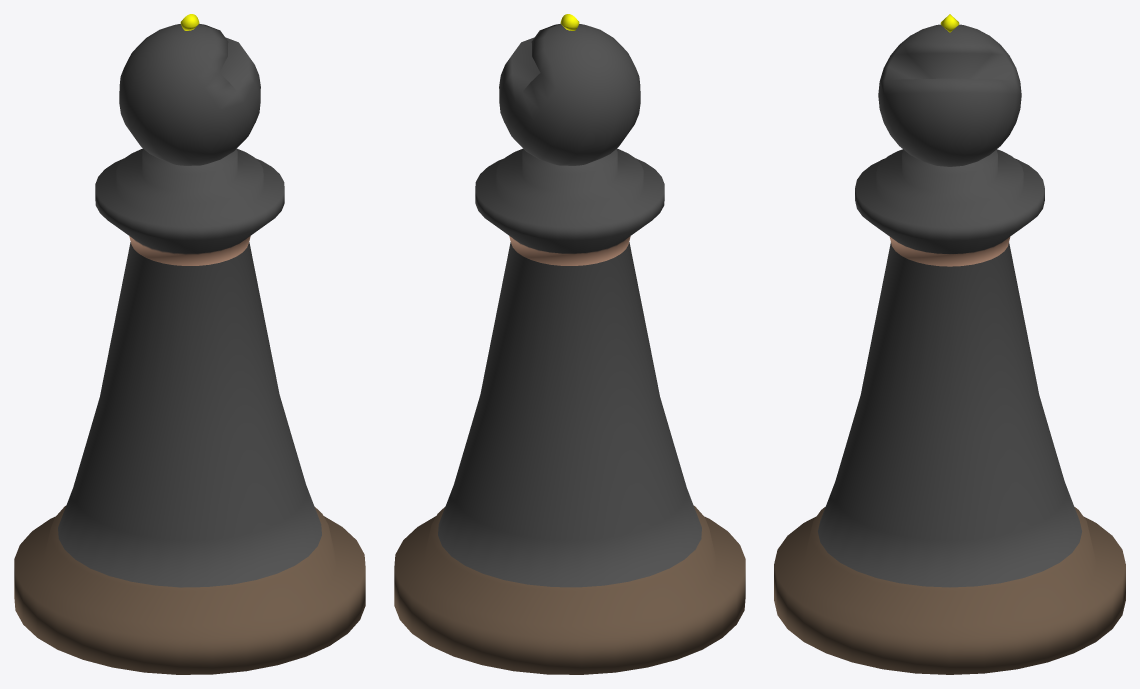
The model's file is Bishop.gltf.
The picture shows the model from 3 angles, left to right: view 1: azimuth 30°, elevation 25°; view 2: azimuth 150°, elevation 25°; view 3: azimuth 270°, elevation 25°; orthographic projection.
Visible parts, largest first — view 1: ビショップ.001; view 2: ビショップ.001; view 3: ビショップ.001.
Boxes of the visible parts, <box> form: ビショップ.001: <box>14,14,365,674</box>; ビショップ.001: <box>394,14,745,674</box>; ビショップ.001: <box>774,14,1125,674</box>.
Bounding box in the file's own units: 0.8681 × 1.59 × 0.8681.
Materials: 1 (1 with a texture image).
